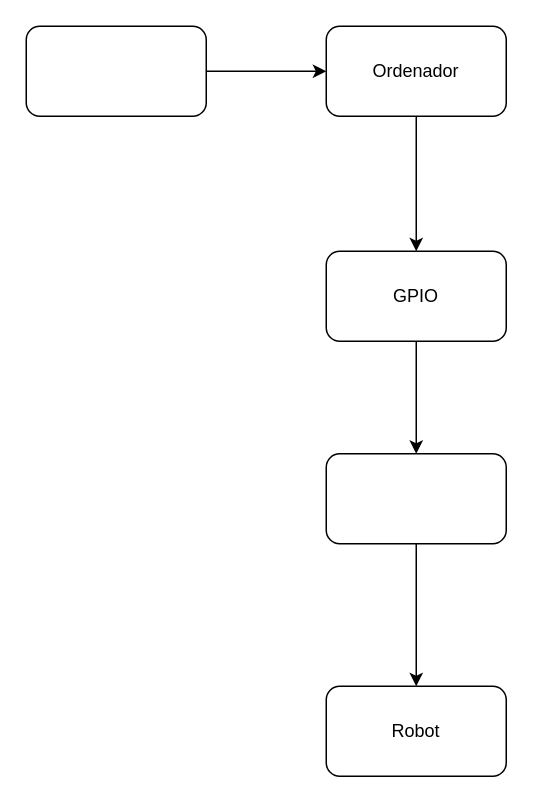
The diagram is 533 pixels wide and 803 high, and some of its shapes have lost their labels. Here are the shapes that lost their labels. From the top down, the centre of each, then its label:
At point 115,70: "Cámara".
At point 415,498: "Mando".
